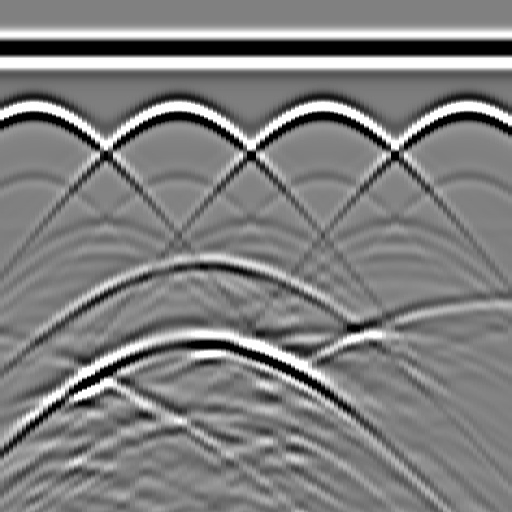grout_surface: (1, 215, 512, 245)
rebar: (12, 90, 52, 130), (156, 90, 196, 130), (300, 90, 340, 130), (444, 90, 484, 130)
rock_surface: (1, 302, 511, 397)
water_void: (170, 236, 230, 276)
